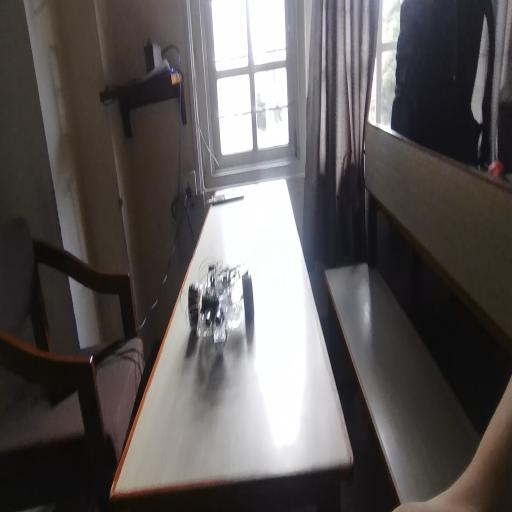car: (197, 227, 269, 377)
